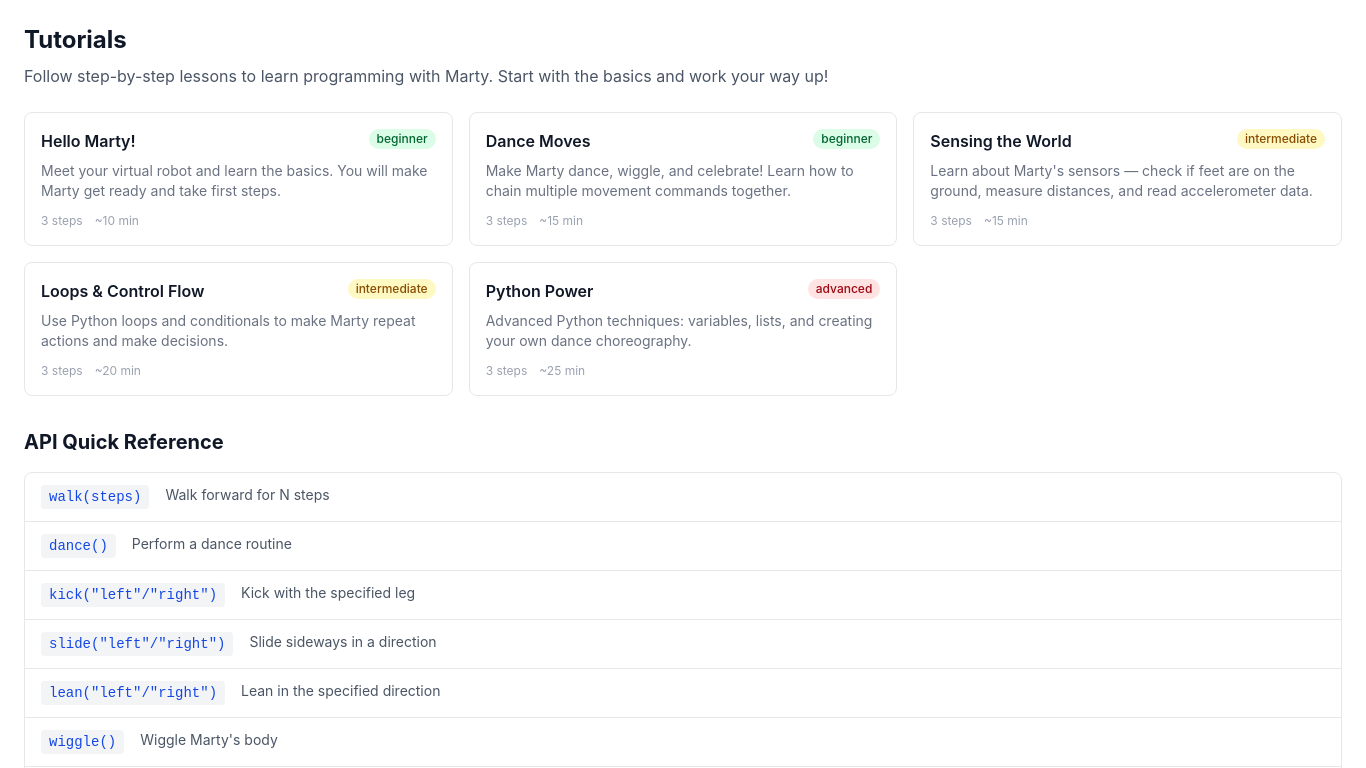
Test case: TutorialsPage › navigates between tutorial steps with Next and Previous
Click the button "Hello Marty": (238, 179) [24,112,453,246]
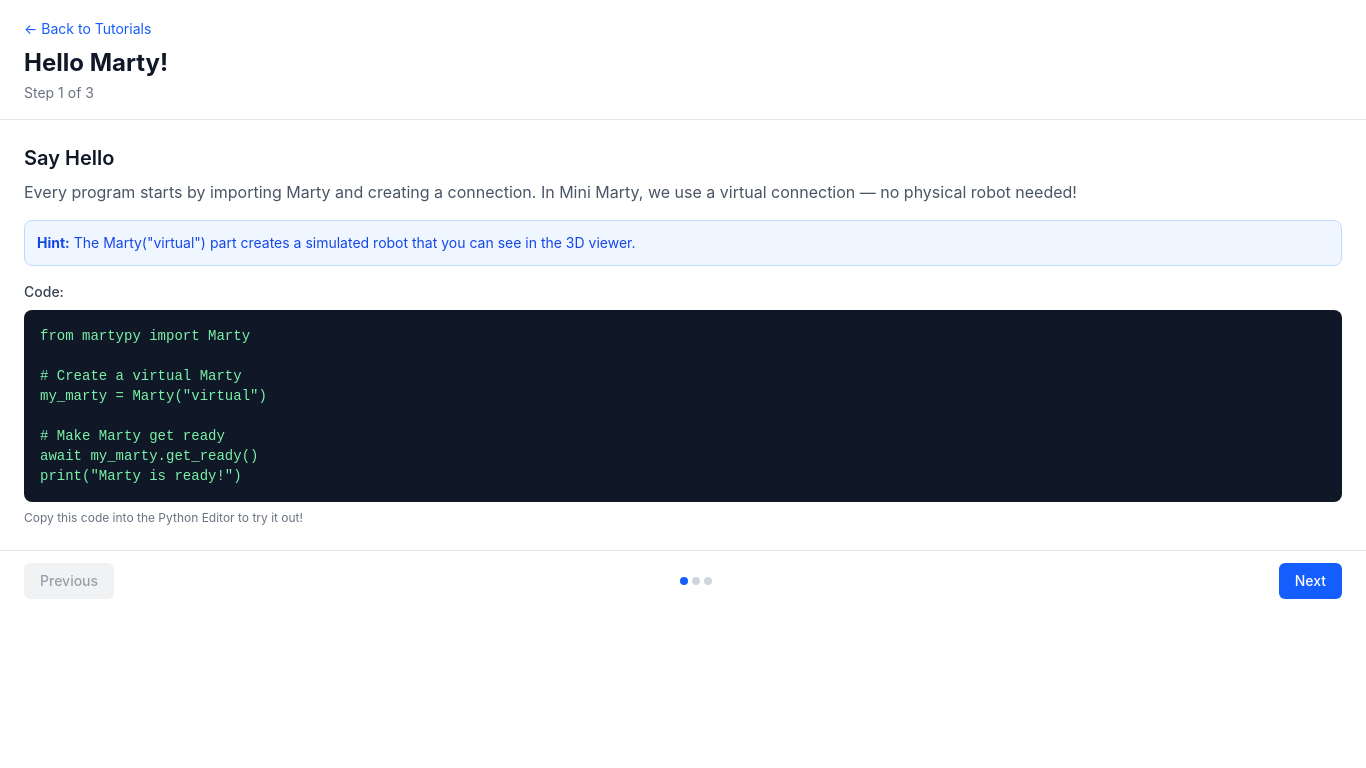
Expected: the text "Step 1 of 3" is shown, [24,84,94,101]
Click the button "Next": (1310, 581) [1279,563,1342,599]
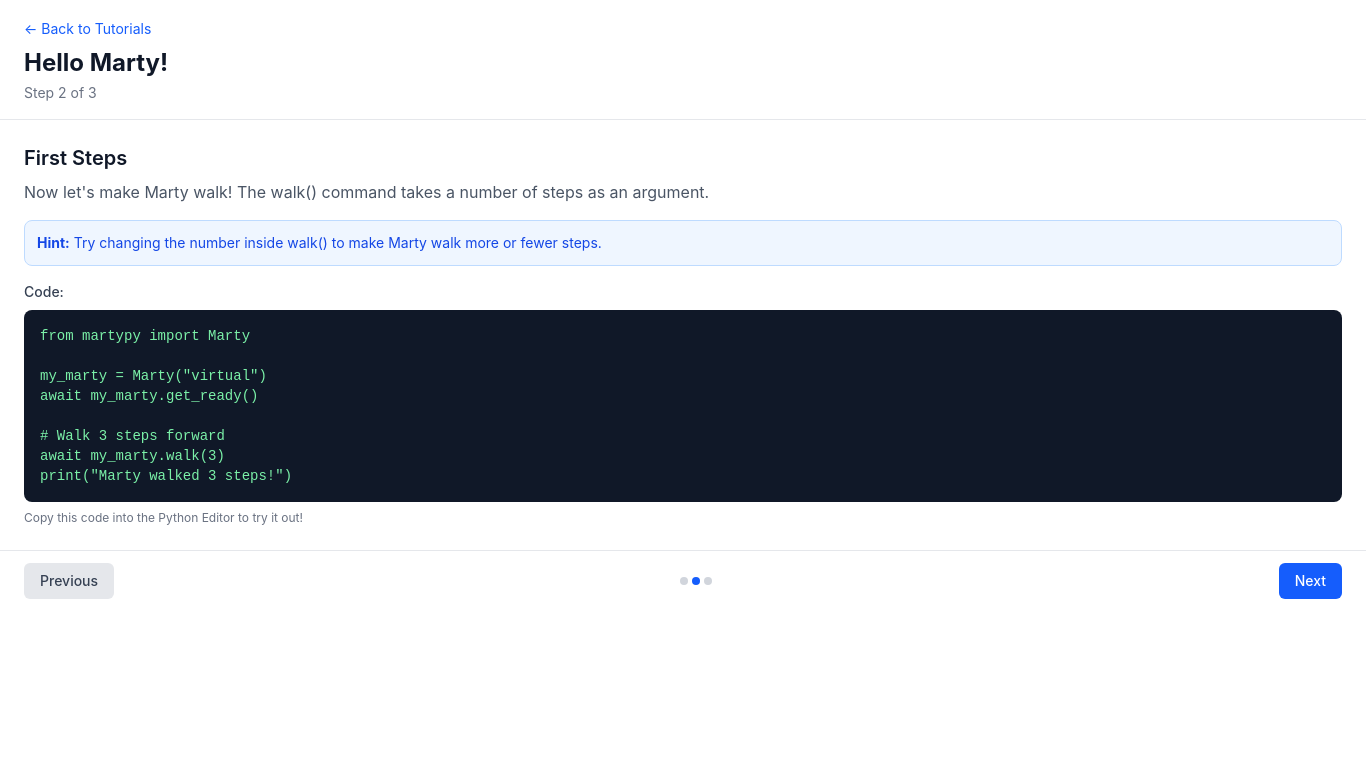
Expected: the text "Step 2 of 3" is shown, [24,84,97,101]
Click the button "Previous": (69, 581) [24,563,114,599]
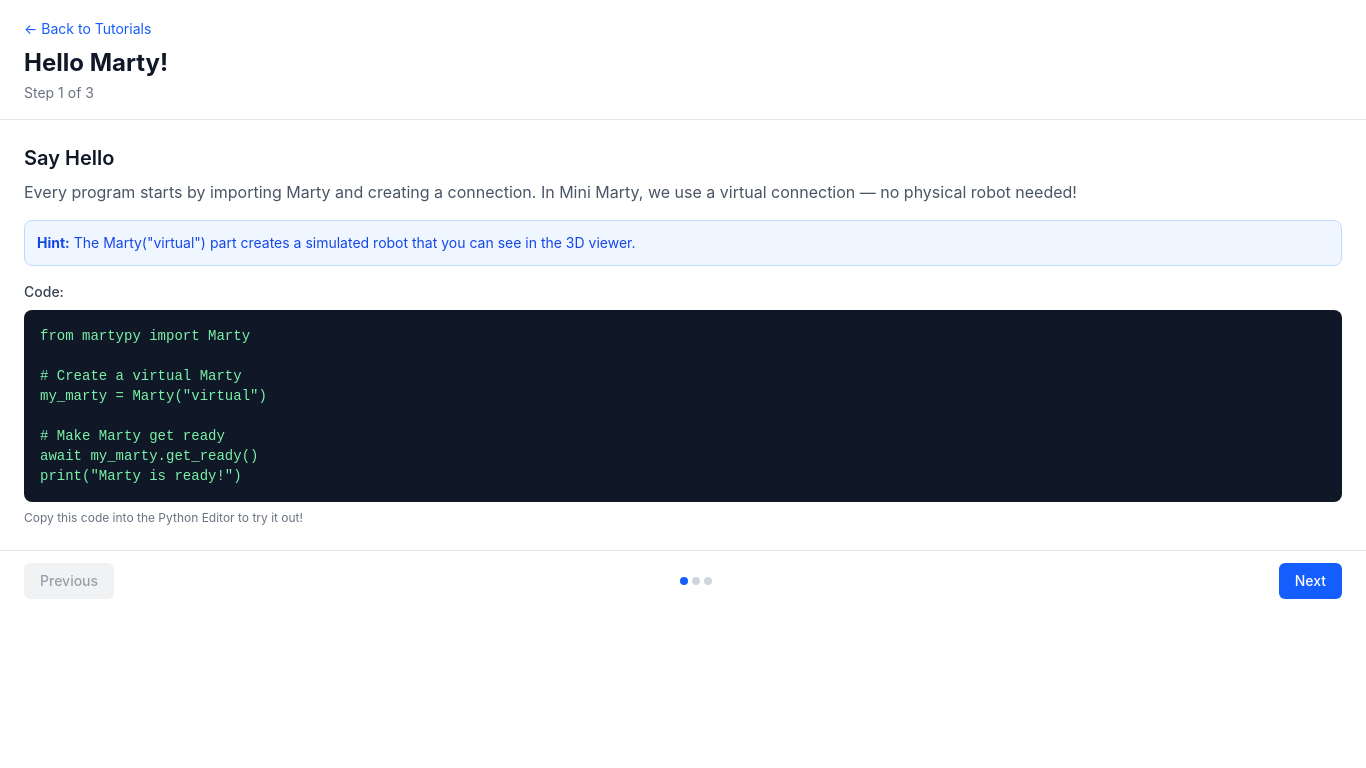
Expected: the text "Step 1 of 3" is shown, [24,84,94,101]
